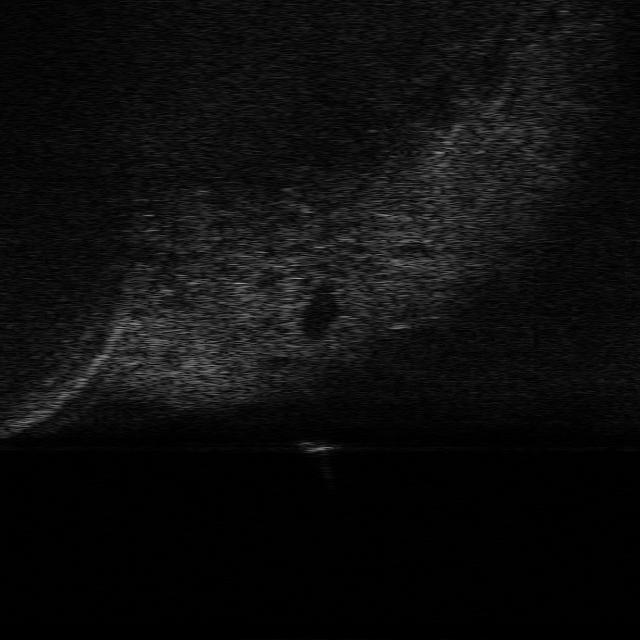cube: (298, 436, 344, 456)
